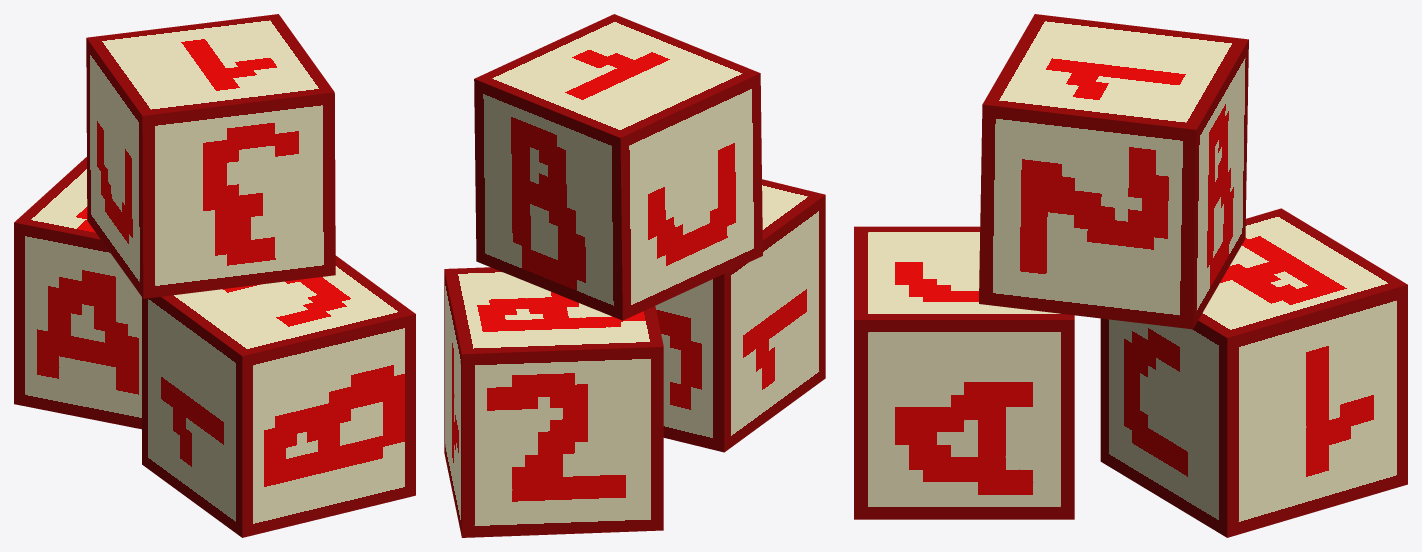
3 views of the same model, side by side, from view 1: azimuth 30°, elevation 25°; view 2: azimuth 150°, elevation 25°; view 3: azimuth 270°, elevation 25° (orthographic). The views are drawn at different scales.
Visible parts, largest first — view 1: Cube; view 2: Cube; view 3: Cube.
Part boxes in pixels (x1,y1,x2,y2): Cube: (14, 14, 415, 537); Cube: (444, 14, 825, 537); Cube: (854, 14, 1407, 537).
Bounding box in the file's own units: 0.4388 × 0.6352 × 0.7912.
1 material, 1 textured.
